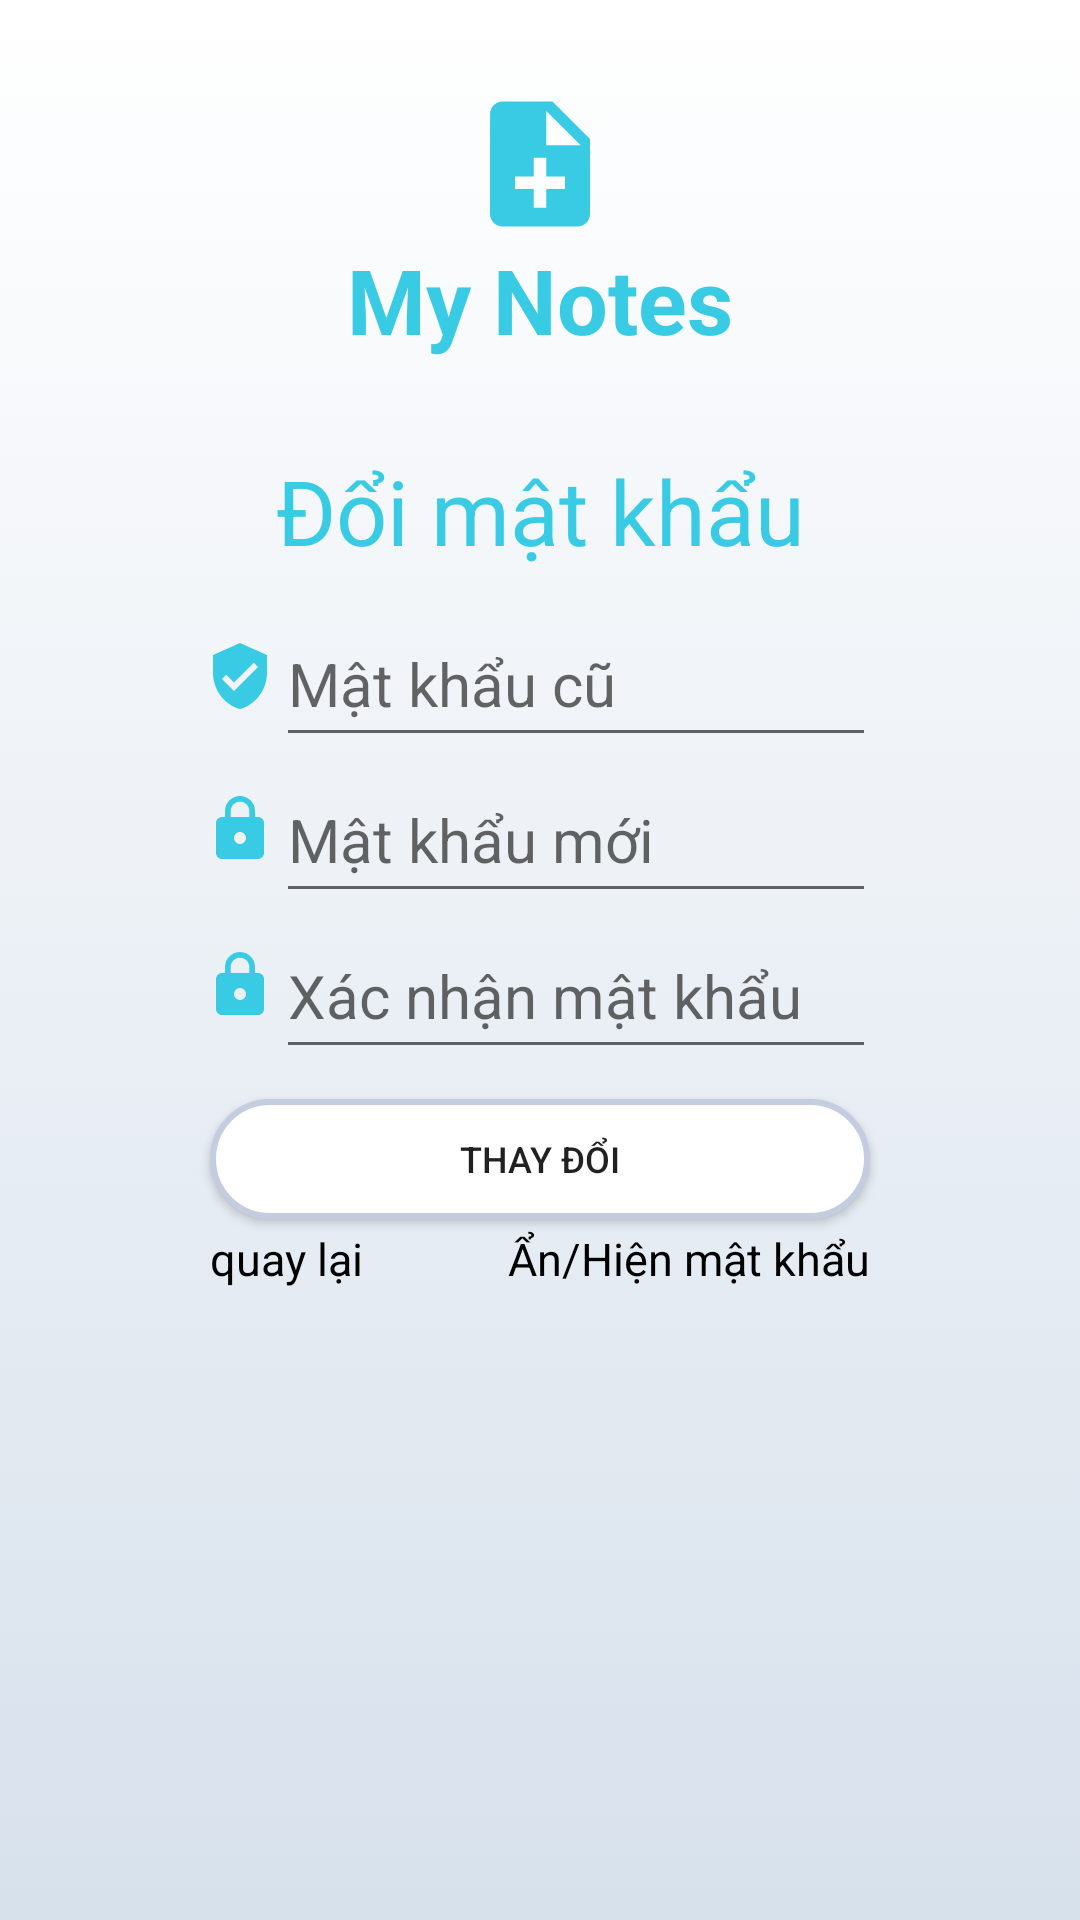

Icons on this 1080px x 1920px Android screen, each with the point to tap as [x,y]:
lock: [240,827], [240,983]
note add: [540,164]
verified user: [240,676]
